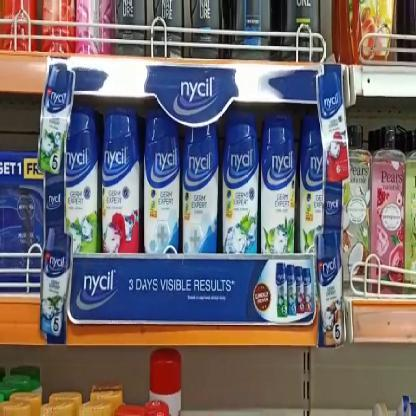Nycil Prickly Heat Powder: (225, 112, 259, 256), (144, 112, 178, 253), (263, 118, 297, 254), (300, 120, 327, 253)
